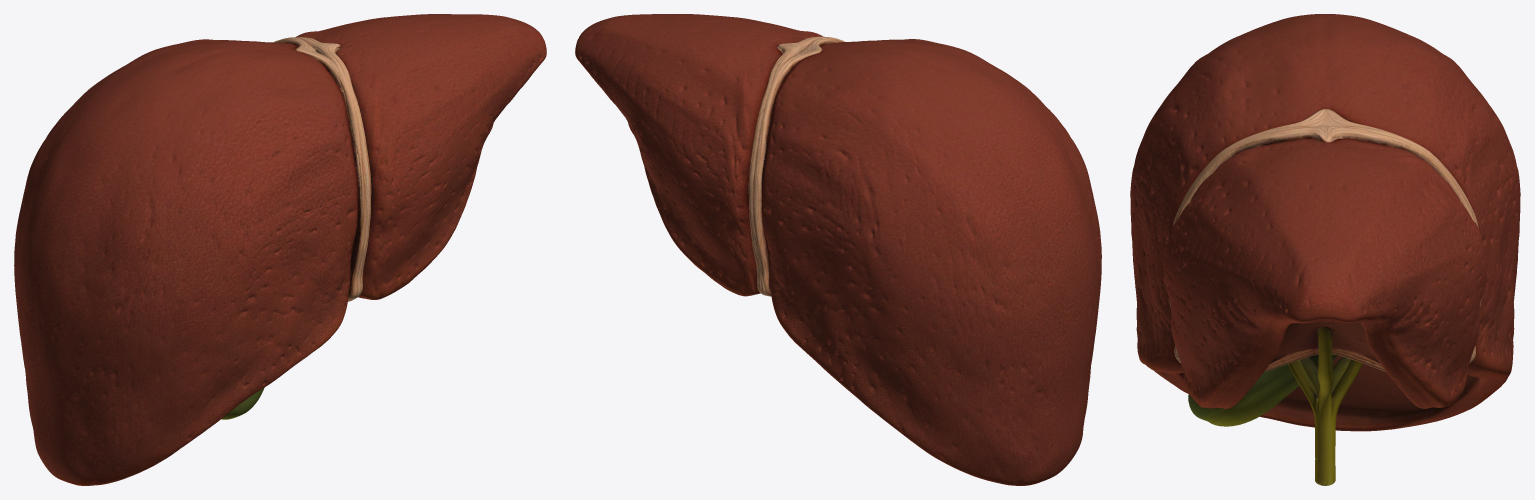
Rendered from liver.glb.
The picture shows the model from 3 angles, left to right: view 1: azimuth 30°, elevation 25°; view 2: azimuth 150°, elevation 25°; view 3: azimuth 270°, elevation 25°; orthographic projection. The views are drawn at different scales.
Parts seen in each view (by area): view 1: tripo_node_b81dcb56-9b6e-4997-a898-e04cc2f48558; view 2: tripo_node_b81dcb56-9b6e-4997-a898-e04cc2f48558; view 3: tripo_node_b81dcb56-9b6e-4997-a898-e04cc2f48558.
Part boxes in pixels (x1=…): tripo_node_b81dcb56-9b6e-4997-a898-e04cc2f48558: x1=14, y1=14, x2=546, y2=485; tripo_node_b81dcb56-9b6e-4997-a898-e04cc2f48558: x1=575, y1=14, x2=1101, y2=485; tripo_node_b81dcb56-9b6e-4997-a898-e04cc2f48558: x1=1130, y1=14, x2=1520, y2=485.
Bounding box in the file's own units: 0.9792 × 0.7175 × 0.5266.
Materials: 1 (1 with a texture image).
